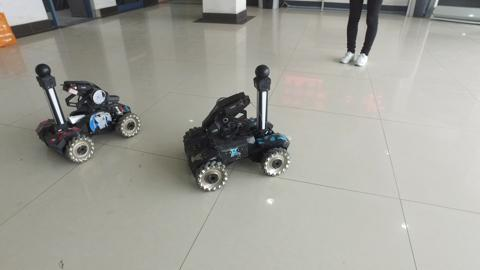chariot: (183, 63, 294, 192), (34, 61, 143, 166)
